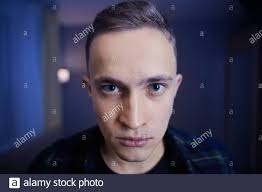white_male: (86, 41, 170, 155)
